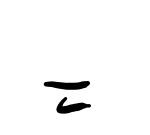eqv: (44, 81, 92, 114)
